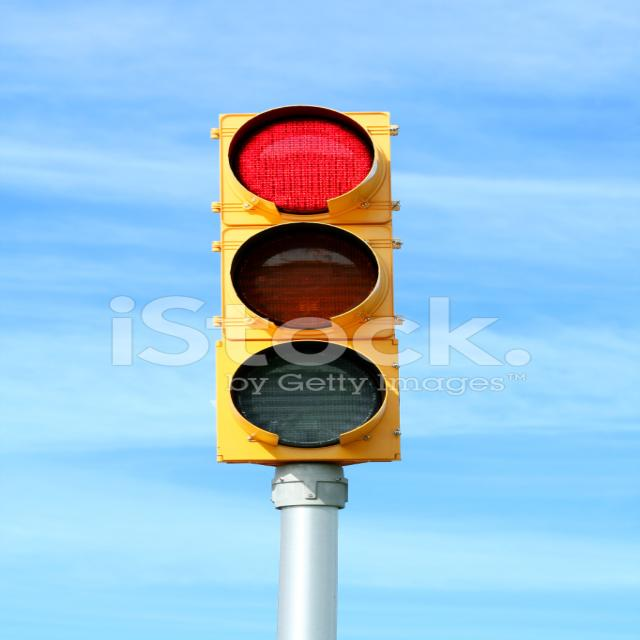red: (214, 110, 415, 220)
